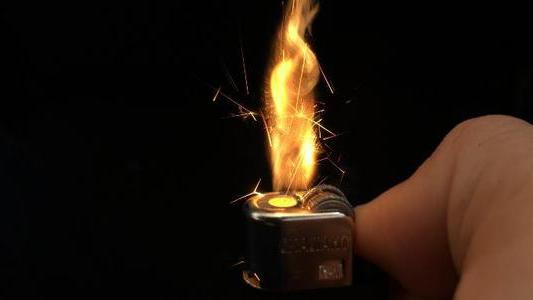fire: (247, 3, 352, 196)
